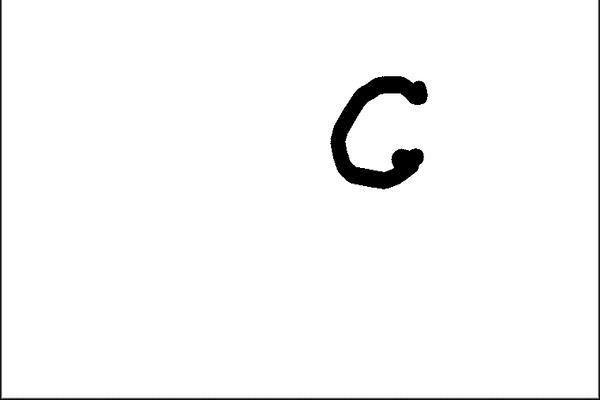C: (324, 69, 434, 195)
